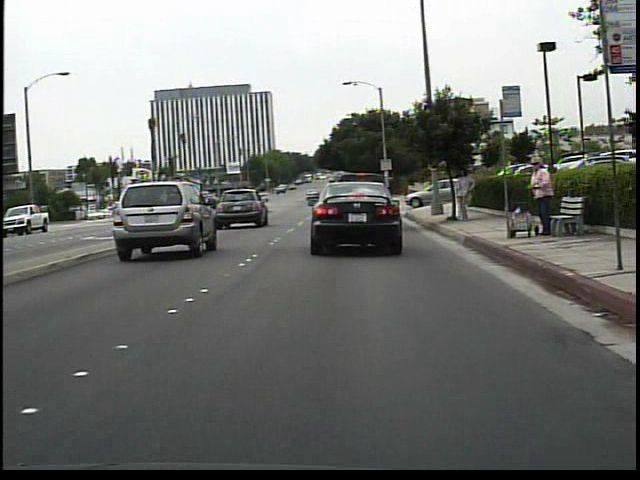person: (523, 152, 555, 237), (450, 165, 477, 224)
